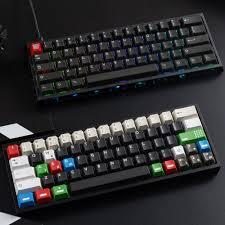keyboard: (0, 103, 220, 214), (25, 10, 223, 104)
